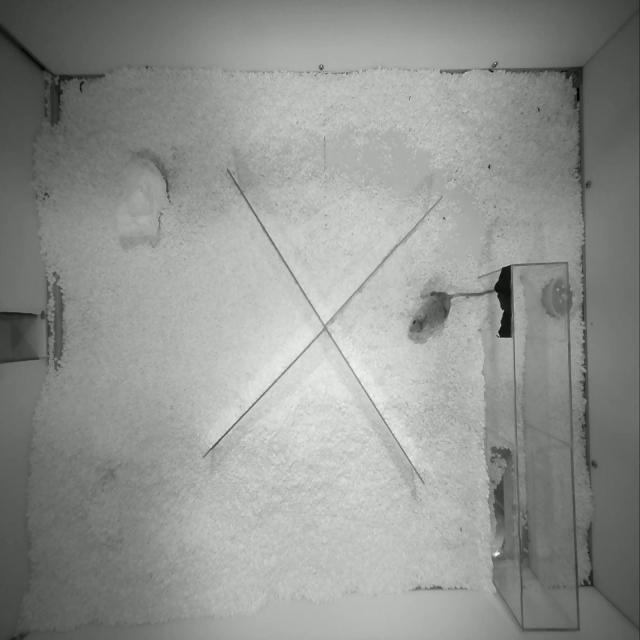adult_back: (409, 290, 493, 333)
